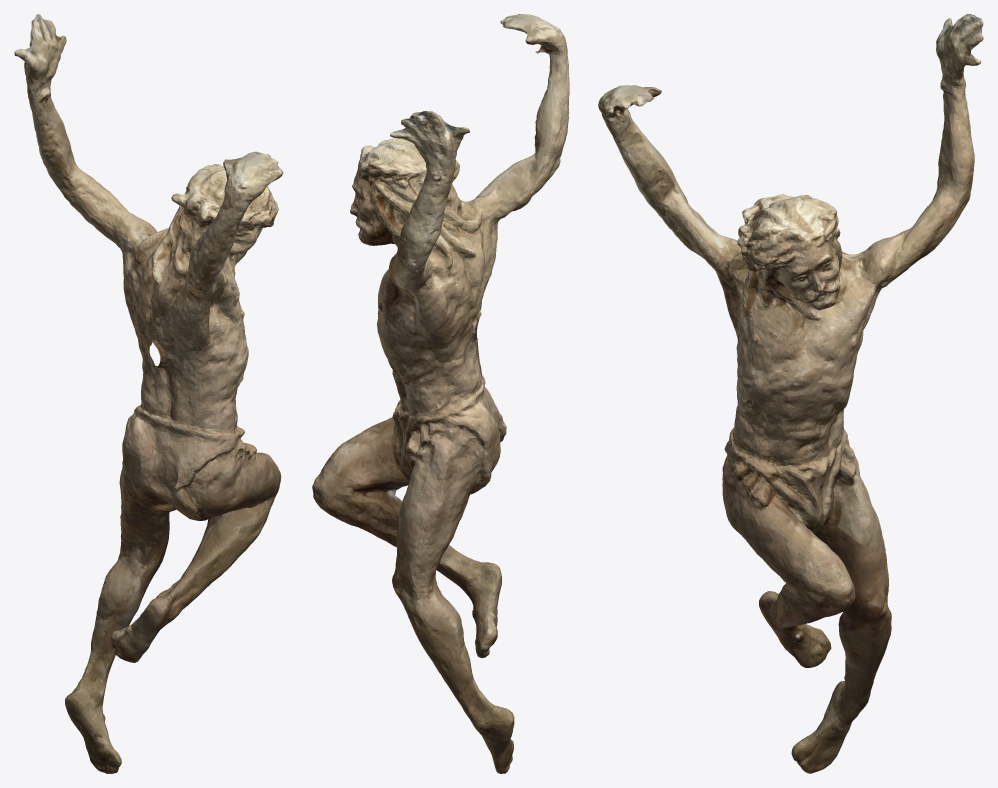
The model's file is WLC - Mighty Victim crucifix-edited.glb.
The picture shows the model from 3 angles, left to right: view 1: azimuth 30°, elevation 25°; view 2: azimuth 150°, elevation 25°; view 3: azimuth 270°, elevation 25°; orthographic projection. The views are drawn at different scales.
Visible parts, largest first — view 1: mesh_0; view 2: mesh_0; view 3: mesh_0.
Boxes of the visible parts, box(x1,y1,x2,y2) form: mesh_0: box(14, 14, 283, 773); mesh_0: box(312, 14, 569, 773); mesh_0: box(598, 14, 983, 773).
Size of the model in its own units: 0.577 by 1.9 by 0.8749.
1 material, 1 textured.
